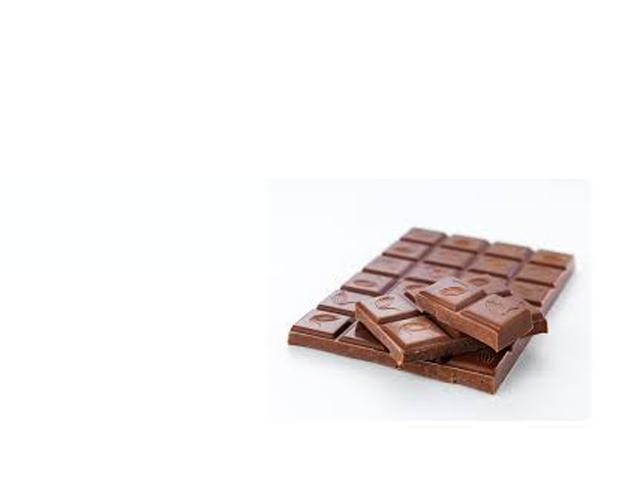chocolate: (283, 212, 576, 405)
